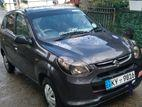car: (0, 5, 142, 107)
